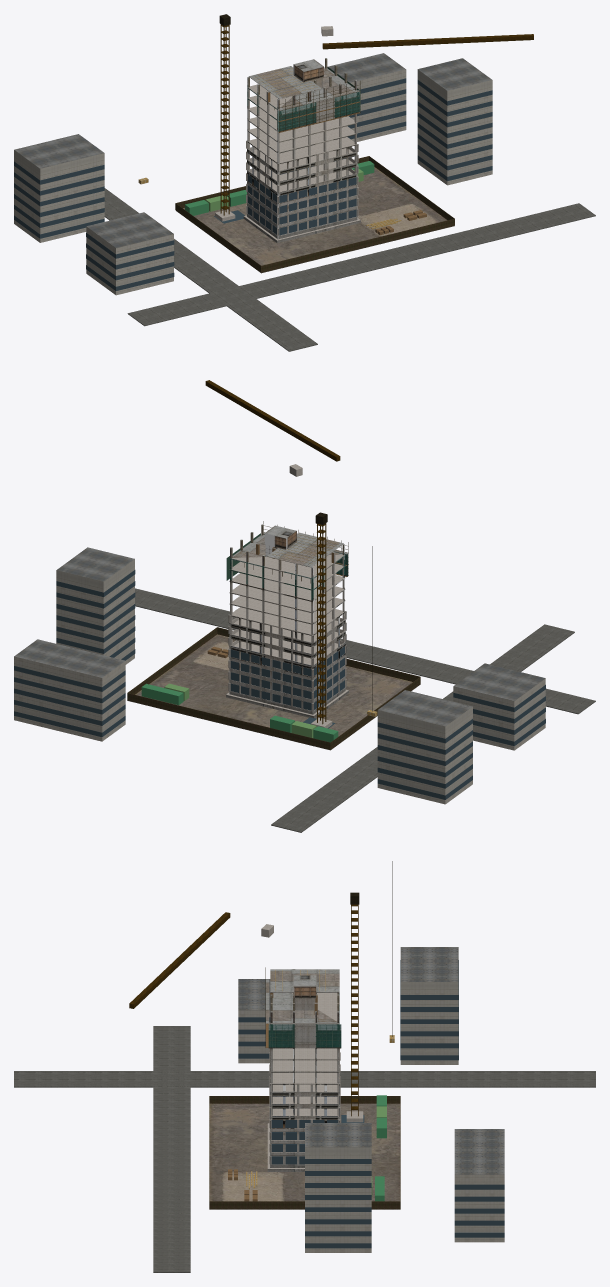
File: tower-m8.glb
The picture shows the model from 3 angles, top to bottom: view 1: azimuth 30°, elevation 25°; view 2: azimuth 150°, elevation 25°; view 3: azimuth 270°, elevation 25°; orthographic projection. The views are drawn at different scales.
Parts seen in each view (by area): view 1: Ground_NeighbourPBR, Ground_AsphaltPBR, Ground_GlassPBR, SitePad, Ground_FencePBR, Crane_CranePBR, F13_PlywoodPBR, Slab_11, Slab_7, Slab_6, Slab_8, F12_NetPBR (+20 smaller); view 2: Ground_NeighbourPBR, Ground_GlassPBR, Ground_AsphaltPBR, SitePad, Ground_FencePBR, Crane_CranePBR, F13_PlywoodPBR, Slab_11, Ground_ContainerPBR, Slab_8, Slab_9, Slab_7 (+16 smaller); view 3: Ground_NeighbourPBR, Ground_AsphaltPBR, SitePad, Ground_GlassPBR, Crane_CranePBR, Ground_FencePBR, Slab_11, F13_PlywoodPBR, GravelYard, F11_NetPBR, F12_NetPBR, Slab_7 (+7 smaller).
Part boxes in pixels (<box>): Ground_NeighbourPBR: <box>14,53,492,295</box>; Ground_AsphaltPBR: <box>104,188,595,351</box>; Ground_GlassPBR: <box>14,78,492,290</box>; SitePad: <box>176,167,454,273</box>; Ground_FencePBR: <box>175,156,454,272</box>; Crane_CranePBR: <box>220,24,533,215</box>; F13_PlywoodPBR: <box>248,66,360,111</box>; Slab_11: <box>247,68,357,109</box>; Slab_7: <box>247,126,357,153</box>; Slab_6: <box>247,137,356,163</box>; Slab_8: <box>247,116,357,142</box>; F12_NetPBR: <box>278,67,360,121</box>; Ground_NeighbourPBR: <box>14,547,545,804</box>; Ground_GlassPBR: <box>14,570,545,799</box>; Ground_AsphaltPBR: <box>135,588,595,832</box>; SitePad: <box>127,634,420,750</box>; Ground_FencePBR: <box>127,627,420,749</box>; Crane_CranePBR: <box>205,380,340,724</box>; F13_PlywoodPBR: <box>256,532,348,567</box>; Slab_11: <box>229,535,345,579</box>; Ground_ContainerPBR: <box>141,683,338,742</box>; Slab_8: <box>229,584,345,613</box>; Slab_9: <box>229,573,345,601</box>; Slab_7: <box>229,595,345,624</box>; Ground_NeighbourPBR: <box>238,947,504,1252</box>; Ground_AsphaltPBR: <box>14,1026,595,1272</box>; SitePad: <box>209,1103,400,1209</box>; Ground_GlassPBR: <box>238,960,504,1248</box>; Crane_CranePBR: <box>129,904,358,1116</box>; Ground_FencePBR: <box>209,1096,400,1208</box>; Slab_11: <box>270,993,339,1024</box>; F13_PlywoodPBR: <box>266,969,339,1023</box>; GravelYard: <box>222,1172,271,1201</box>; F11_NetPBR: <box>268,1036,341,1048</box>; F12_NetPBR: <box>268,1024,341,1036</box>; Slab_7: <box>270,1060,339,1072</box>.
Size of what is drawn, in the model's own units: 140 by 61 by 140.
24 materials, 23 textured.
